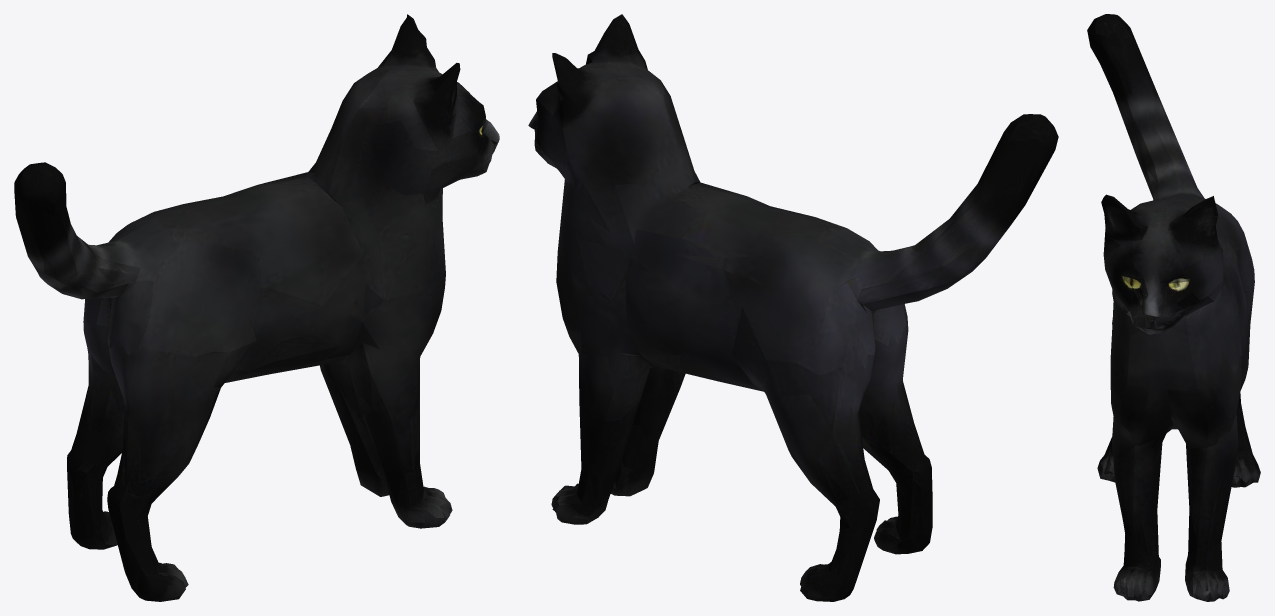
The model's file is SABERHACAT-lo.glb.
3 views of the same model, side by side, from view 1: azimuth 30°, elevation 25°; view 2: azimuth 150°, elevation 25°; view 3: azimuth 270°, elevation 25° (orthographic). The views are drawn at different scales.
Parts seen in each view (by area): view 1: output_unwrapped; view 2: output_unwrapped; view 3: output_unwrapped.
Boxes of the visible parts, x1=… form: output_unwrapped: x1=14, y1=14, x2=499, y2=601; output_unwrapped: x1=528, y1=14, x2=1058, y2=601; output_unwrapped: x1=1087, y1=14, x2=1260, y2=601.
Bounding box in the file's own units: 1.13 × 1 × 0.383.
1 material, 1 textured.
